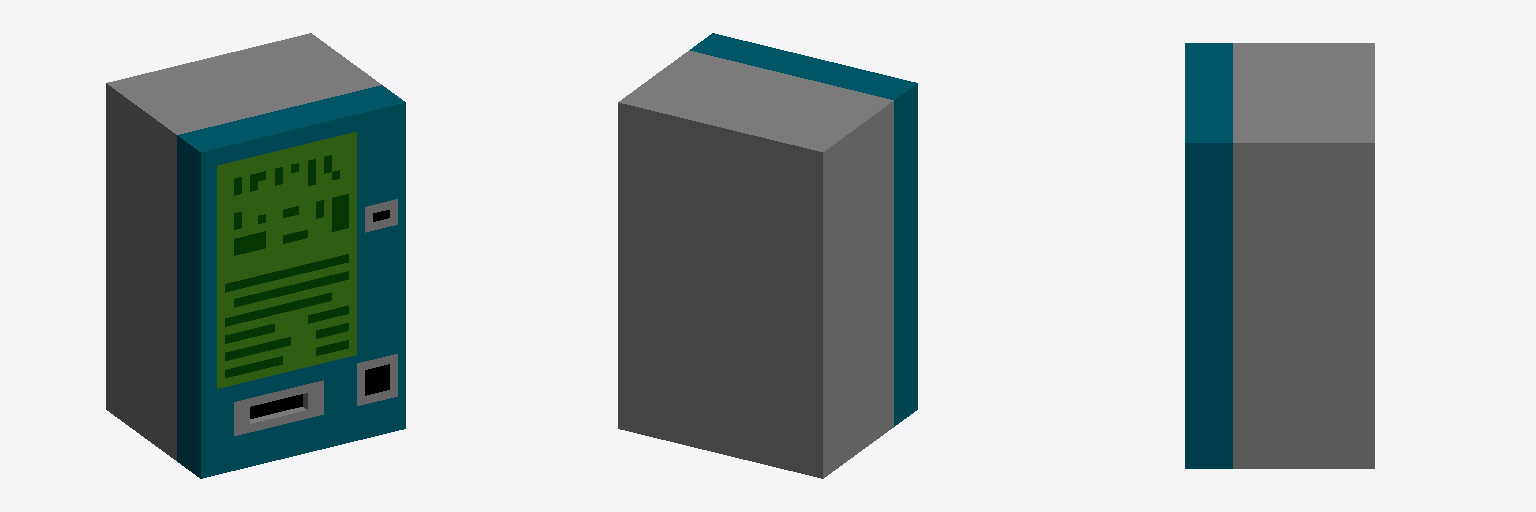
3 views of the same model, side by side, from view 1: azimuth 30°, elevation 25°; view 2: azimuth 150°, elevation 25°; view 3: azimuth 270°, elevation 25° (orthographic).
Visible parts, largest first — view 1: object 1; view 2: object 1; view 3: object 1.
Part boxes in pixels (bbox=[...]): object 1: bbox=[106, 33, 405, 478]; object 1: bbox=[618, 33, 917, 478]; object 1: bbox=[1185, 43, 1374, 468].
Size of the model in its own units: 2.5 by 3.8 by 2.
1 materials, 1 textured.